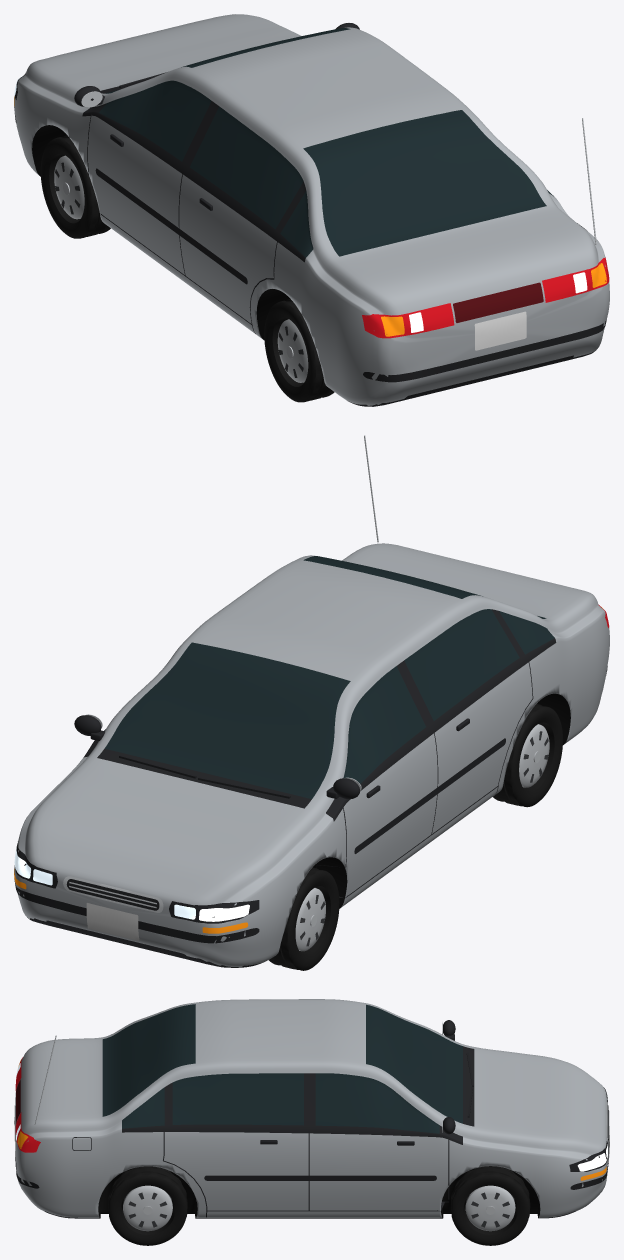
The model's file is avante.glb.
3 renders of one model, top to bottom at view 1: azimuth 30°, elevation 25°; view 2: azimuth 150°, elevation 25°; view 3: azimuth 270°, elevation 25°, orthographic. The views are drawn at different scales.
Parts seen in each view (by area): view 1: Body, Wheel_RL_mesh, Wheel_FL_mesh; view 2: Body, Wheel_RL_mesh, Wheel_FL_mesh; view 3: Body, Wheel_FR_mesh, Wheel_RR_mesh.
Part boxes in pixels (left/top/right/bottom): Body: left=14, top=14, right=609, bottom=406; Wheel_RL_mesh: left=264, top=299, right=334, bottom=402; Wheel_FL_mesh: left=40, top=135, right=110, bottom=238; Body: left=14, top=435, right=609, bottom=967; Wheel_RL_mesh: left=493, top=704, right=562, bottom=807; Wheel_FL_mesh: left=269, top=867, right=339, bottom=970; Body: left=14, top=999, right=609, bottom=1218; Wheel_FR_mesh: left=451, top=1166, right=530, bottom=1245; Wheel_RR_mesh: left=108, top=1166, right=187, bottom=1245.
Bounding box in the file's own units: 1.88 × 1.69 × 4.44.
